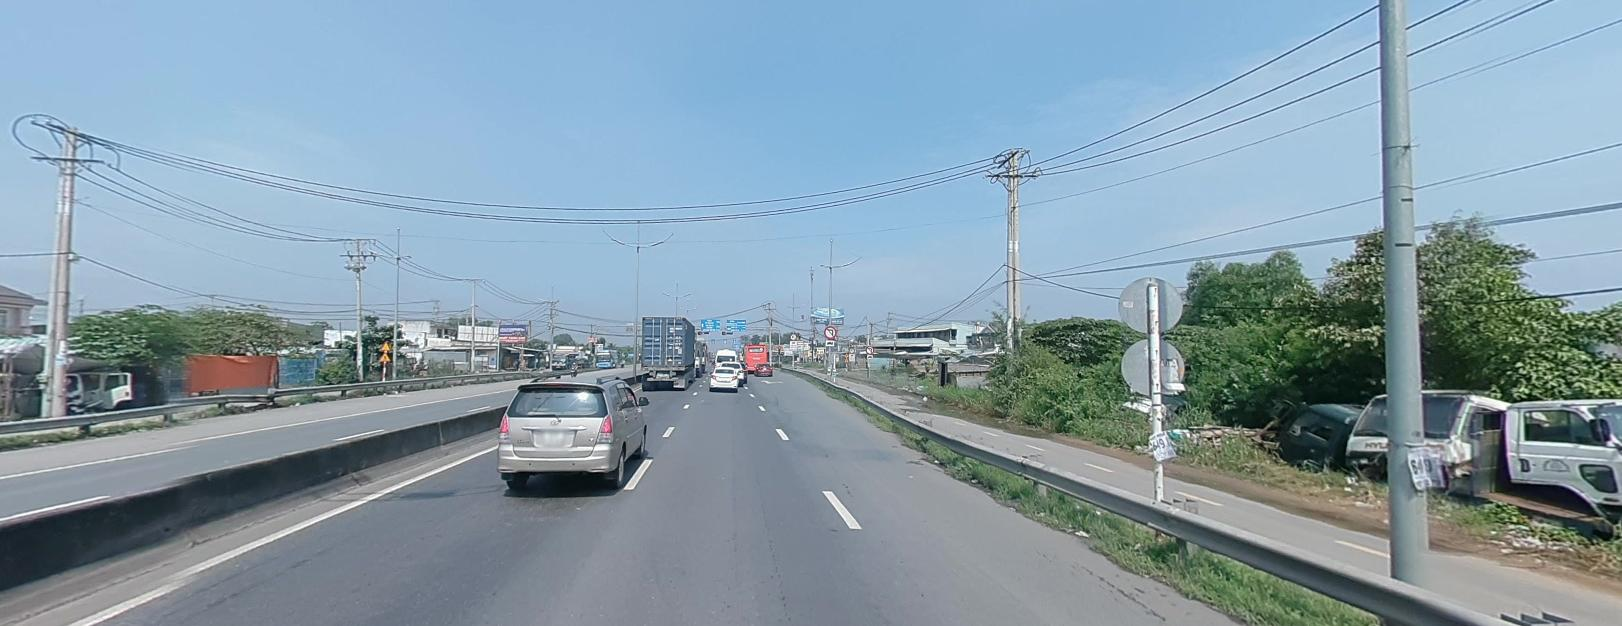Cam re: (824, 324, 836, 336), (866, 344, 873, 352)
Nguy hiem: (378, 351, 390, 359), (380, 340, 390, 348), (844, 356, 849, 360), (844, 351, 849, 355)
